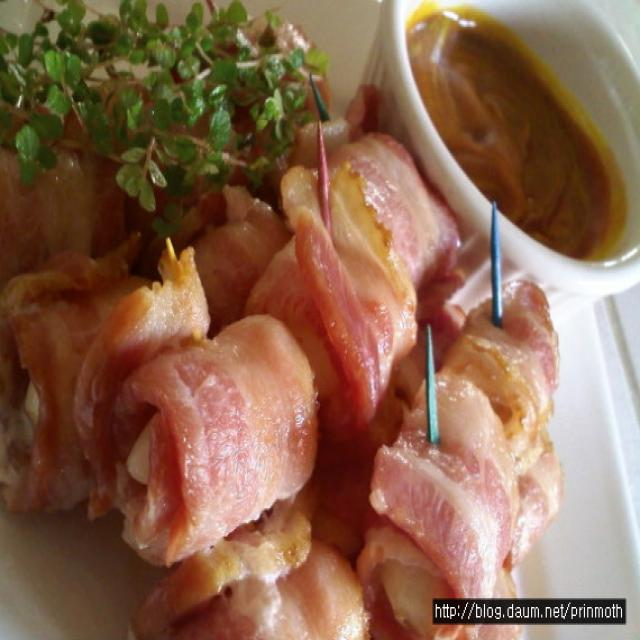bacon: (0, 135, 460, 564), (373, 283, 561, 598), (158, 510, 368, 639)
